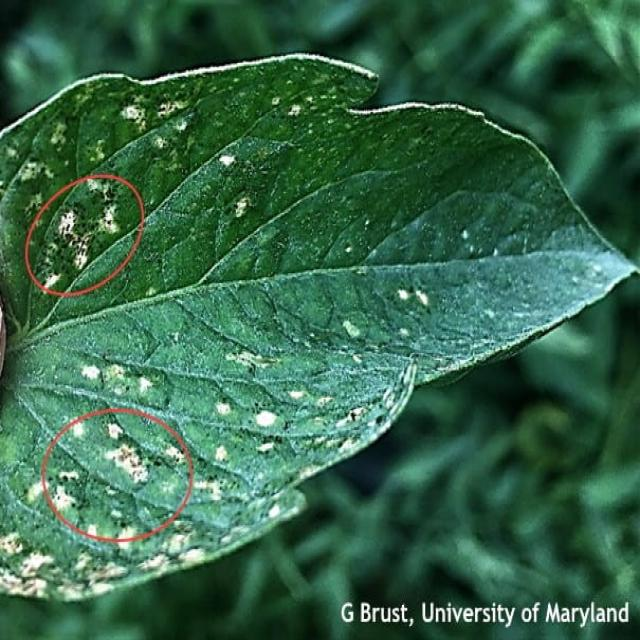Thrip-Group-: (48, 442, 171, 515), (37, 178, 118, 284)
